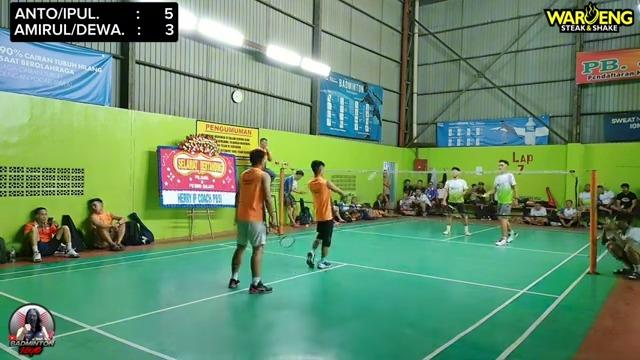Shuttlecock: (364, 170, 378, 182)
